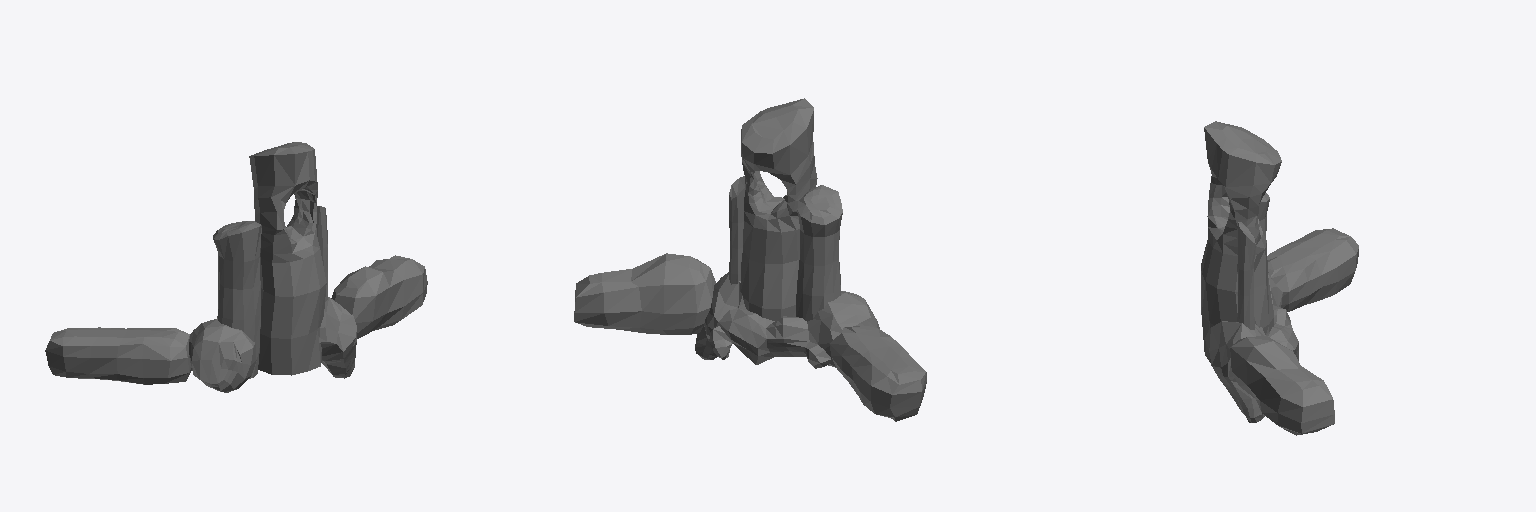
File: Obelisks_Rocks.obj
The picture shows the model from 3 angles: view 1: azimuth 30°, elevation 25°; view 2: azimuth 150°, elevation 25°; view 3: azimuth 270°, elevation 25°; orthographic projection.
Visible parts, largest first — view 1: Obelisk_M:Obelisk_Middle, Rocks_1:Mesh, Rocks_2:Mesh, Obelisk_R:Obelisk_Right, Obelisk_L:Obelisk_Left; view 2: Rocks_1:Mesh, Obelisk_M:Obelisk_Middle, Rocks_2:Mesh, Obelisk_R:Obelisk_Right, Obelisk_L:Obelisk_Left; view 3: Rocks_1:Mesh, Obelisk_M:Obelisk_Middle, Rocks_2:Mesh, Obelisk_L:Obelisk_Left.
Part boxes in pixels (left/top/right/bottom): Obelisk_M:Obelisk_Middle: left=249, top=142, right=326, bottom=375; Rocks_1:Mesh: left=45, top=255, right=427, bottom=384; Rocks_2:Mesh: left=189, top=297, right=356, bottom=392; Obelisk_R:Obelisk_Right: left=213, top=221, right=261, bottom=378; Obelisk_L:Obelisk_Left: left=316, top=206, right=327, bottom=301; Rocks_1:Mesh: left=574, top=253, right=926, bottom=421; Obelisk_M:Obelisk_Middle: left=740, top=98, right=817, bottom=320; Rocks_2:Mesh: left=695, top=272, right=879, bottom=368; Obelisk_R:Obelisk_Right: left=796, top=185, right=842, bottom=321; Obelisk_L:Obelisk_Left: left=729, top=176, right=746, bottom=284; Rocks_1:Mesh: left=1230, top=228, right=1358, bottom=435; Obelisk_M:Obelisk_Middle: left=1201, top=121, right=1281, bottom=362; Rocks_2:Mesh: left=1204, top=275, right=1298, bottom=422; Obelisk_L:Obelisk_Left: left=1237, top=222, right=1255, bottom=329.
Bounding box in the file's own units: 11.97 × 8.12 × 4.52.